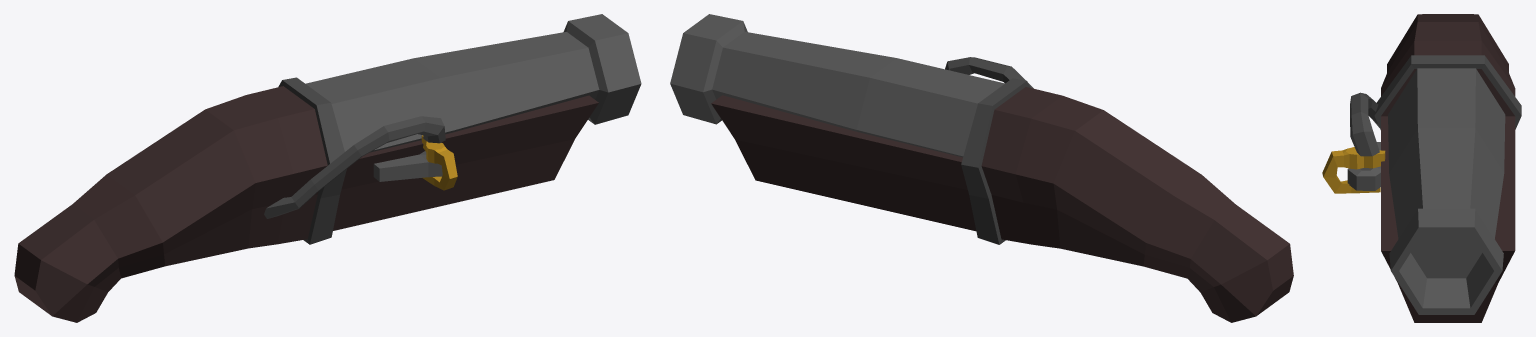
The model's file is Hand Canon.fbx.
3 renders of one model, left to right at view 1: azimuth 30°, elevation 25°; view 2: azimuth 150°, elevation 25°; view 3: azimuth 270°, elevation 25°, orthographic. The views are drawn at different scales.
Parts seen in each view (by area): view 1: ōdzutsu; view 2: ōdzutsu; view 3: ōdzutsu.
Boxes of the visible parts, left/top/right/bottom form: ōdzutsu: left=14, top=14, right=641, bottom=322; ōdzutsu: left=670, top=14, right=1293, bottom=322; ōdzutsu: left=1322, top=14, right=1521, bottom=322.
Size of the model in its own units: 74.26 by 19.35 by 20.41.
